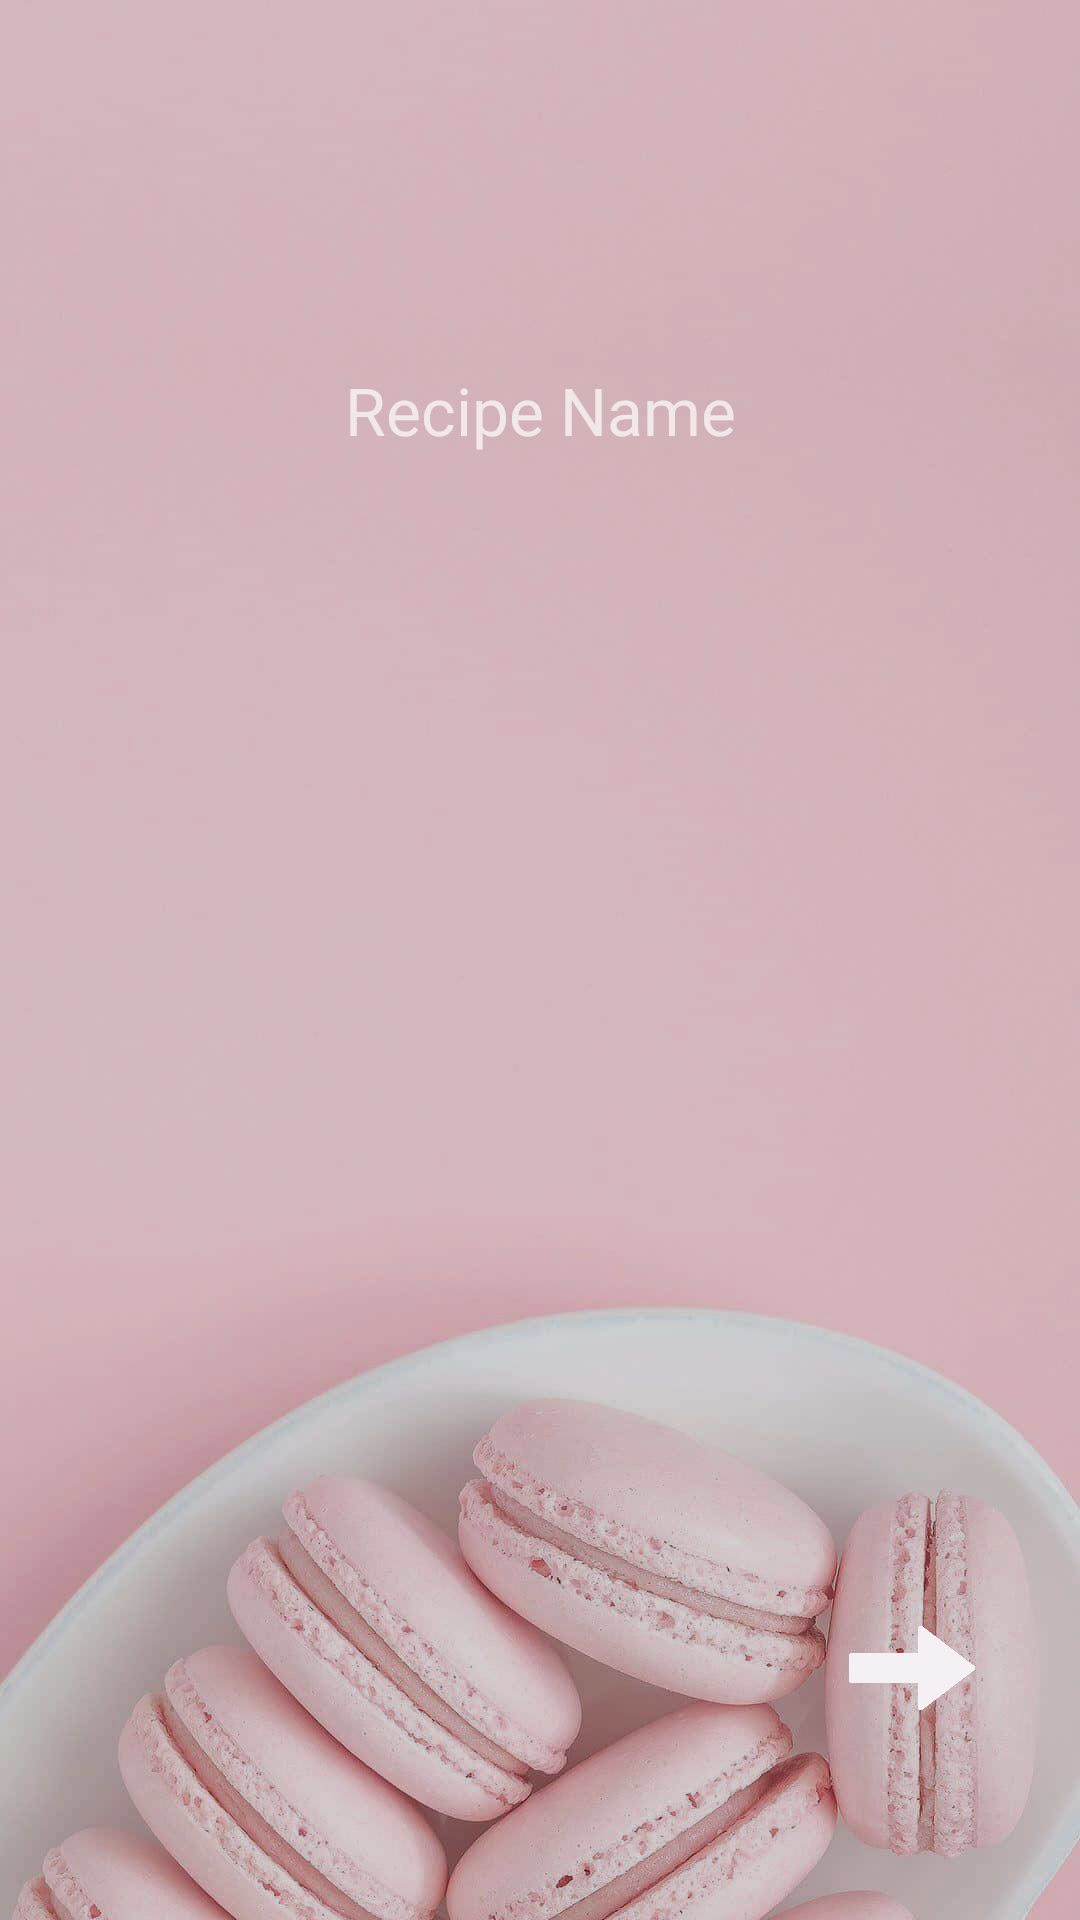

Icons on this 1080 × 1920 Android screen, each with the point to tap as (x=x, y=y):
arrow: (x=912, y=1668)
